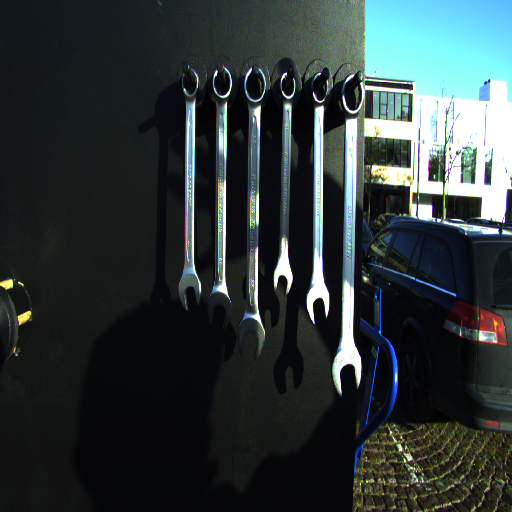bottom: (331, 350, 361, 396), (205, 290, 233, 332), (237, 318, 264, 359), (306, 287, 332, 325), (177, 274, 203, 311), (272, 264, 293, 295)
top: (339, 72, 365, 120), (242, 65, 268, 109), (210, 65, 234, 106), (178, 67, 202, 101), (308, 71, 329, 109), (277, 70, 298, 105)
